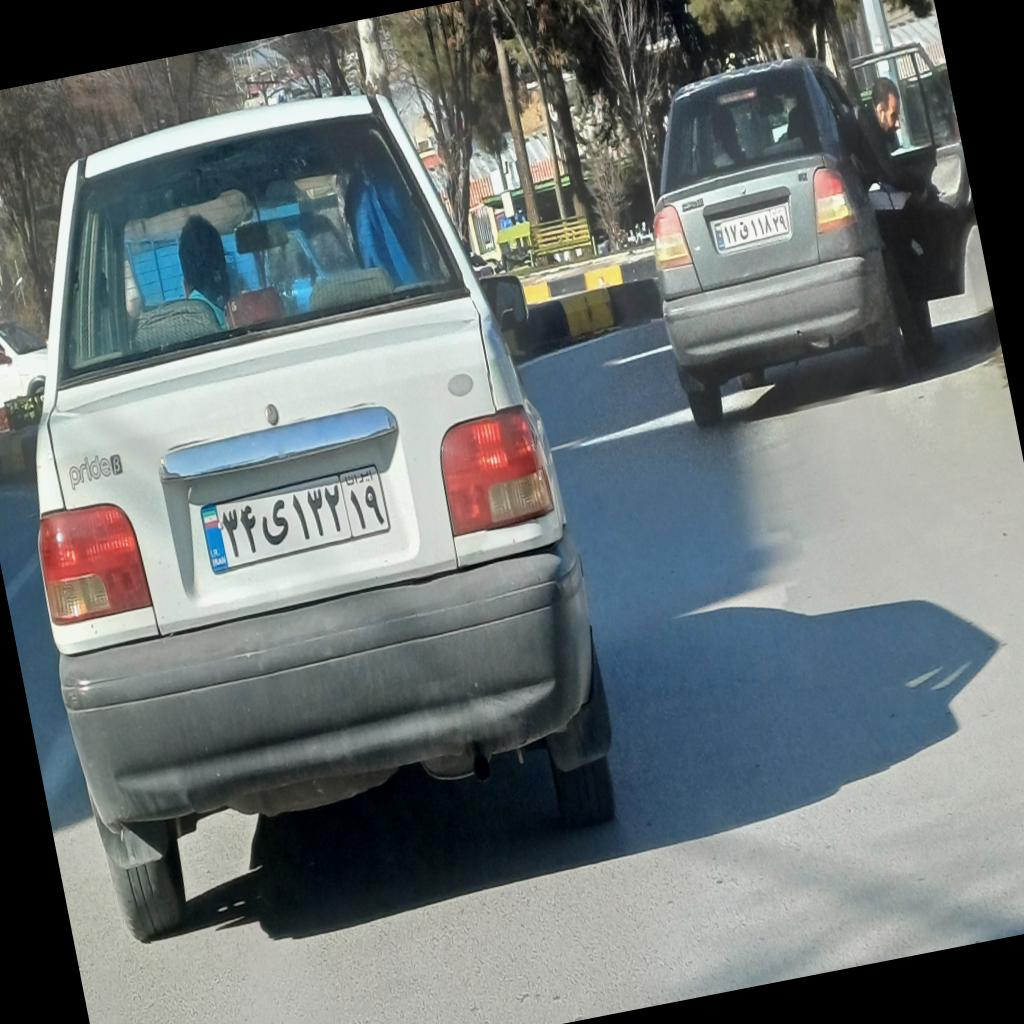Plates: (197, 462, 393, 572), (712, 205, 792, 251)
